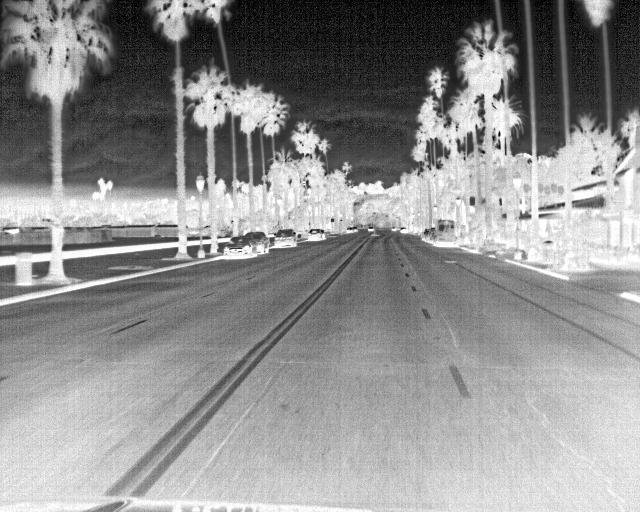car: (222, 236, 256, 259), (432, 218, 458, 247), (245, 232, 270, 255), (272, 227, 296, 248), (306, 228, 322, 242), (426, 226, 438, 241), (419, 228, 431, 242), (365, 225, 375, 234), (346, 225, 354, 235)
